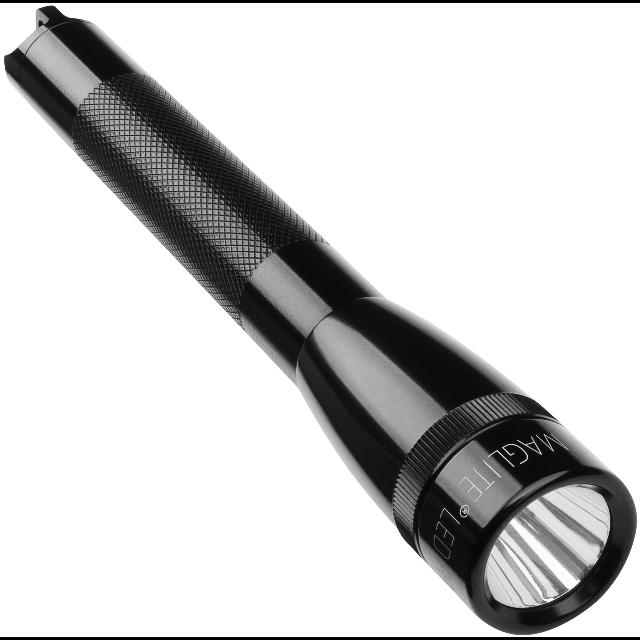Flashlight: (0, 3, 640, 637)
